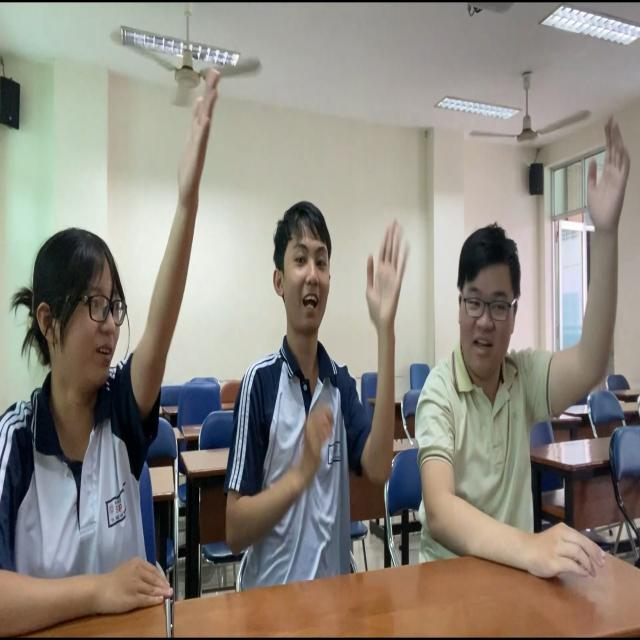raise_hand: (1, 31, 219, 640), (420, 106, 638, 619), (226, 183, 415, 524)
